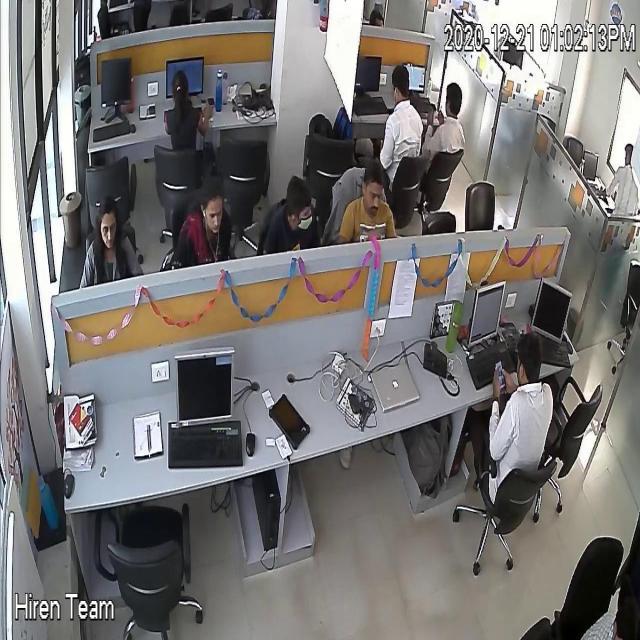chair: (94, 4, 125, 38), (563, 134, 586, 166)
keyboard: (166, 415, 245, 474), (466, 337, 516, 395), (532, 327, 572, 370), (352, 91, 391, 118), (92, 117, 132, 143), (409, 91, 439, 118), (589, 174, 607, 203)
laptop: (369, 359, 422, 415)
monitor: (91, 503, 207, 640), (465, 428, 557, 585), (528, 526, 618, 636), (551, 373, 603, 511), (214, 134, 274, 228), (173, 346, 235, 425), (148, 143, 200, 227), (297, 121, 353, 199), (610, 250, 640, 374), (84, 160, 140, 222), (533, 268, 573, 348), (388, 150, 426, 230), (468, 276, 506, 345), (428, 149, 464, 207), (465, 178, 499, 232), (99, 54, 133, 107), (164, 54, 204, 98), (423, 206, 457, 235), (355, 57, 382, 92), (504, 38, 524, 70), (407, 62, 425, 92), (584, 147, 600, 180)
person: (473, 332, 553, 478), (69, 197, 147, 286), (168, 171, 238, 270), (379, 61, 423, 184), (162, 68, 215, 156), (270, 170, 324, 253), (342, 167, 396, 245), (425, 77, 466, 176), (604, 140, 640, 222), (585, 591, 640, 640), (196, 1, 238, 22), (164, 4, 188, 26), (367, 7, 385, 26)
